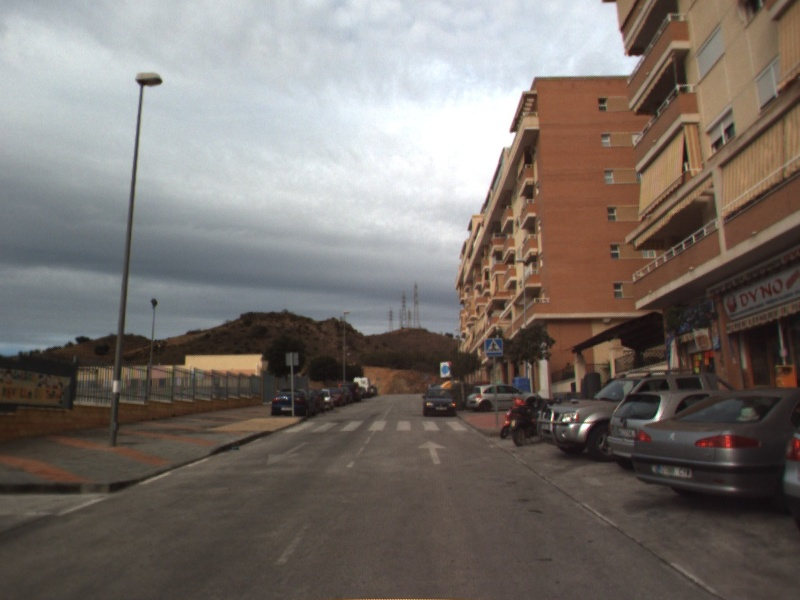STRAIGHT: (416, 438, 448, 466)
